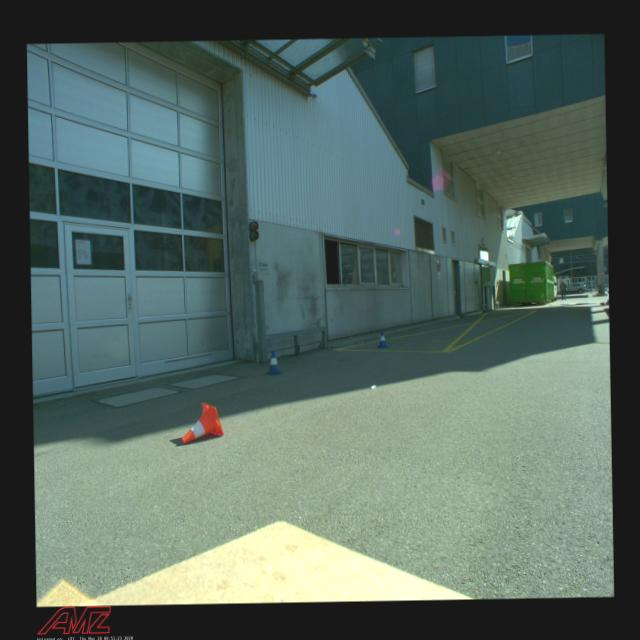blue_cone: (266, 350, 281, 375), (378, 330, 388, 348)
orange_cone: (180, 402, 223, 444)
